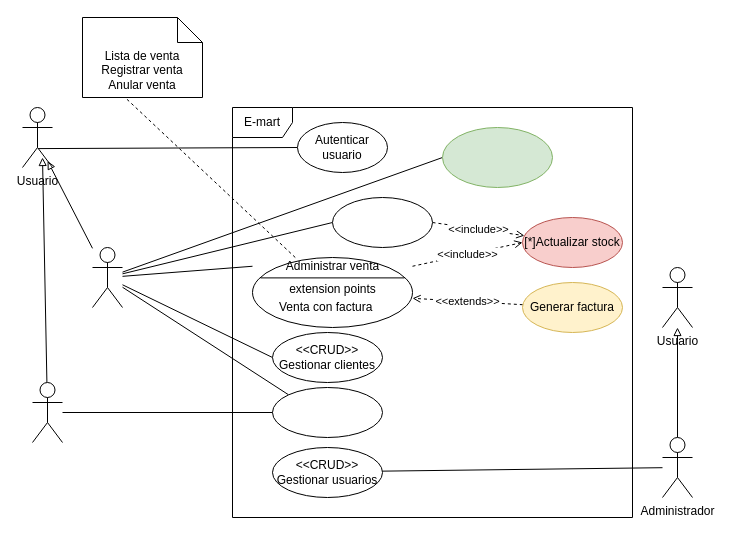
The diagram is 732 pixels wide and 536 high, and some of its shapes have lost their labels. The centre of each missing label's shape, as x and y in pixels:
"<<CRUD>> Gestionar productos" goes at point (497, 157).
"Generar Reportes" goes at point (327, 412).
"Gerente" goes at point (47, 412).
"Registrar Compras" goes at point (382, 222).
"Vendedor" goes at point (107, 277).
